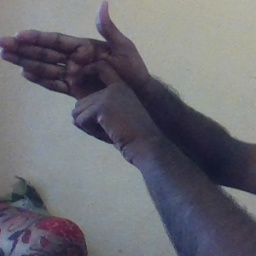R: (4, 1, 147, 142)
